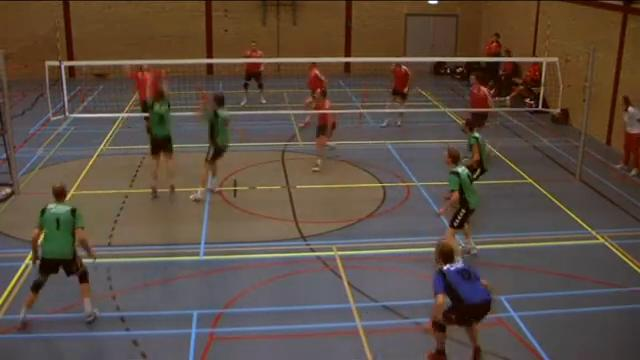Block: (135, 67, 180, 202), (188, 85, 230, 208)
Player: (20, 184, 96, 327), (427, 242, 491, 359), (439, 147, 478, 253), (312, 89, 336, 171), (463, 120, 487, 180), (388, 63, 410, 126), (469, 72, 492, 128), (241, 60, 266, 105), (305, 62, 327, 108)
